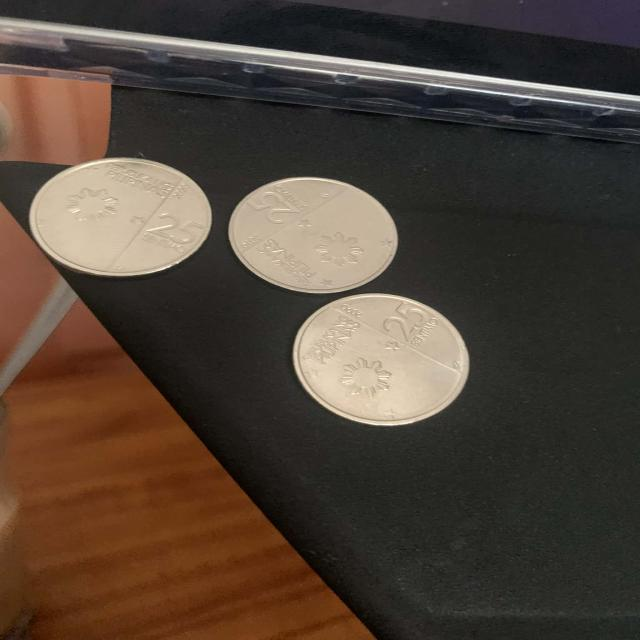25 cents: (31, 149, 221, 280), (296, 294, 468, 424), (230, 177, 395, 292)
